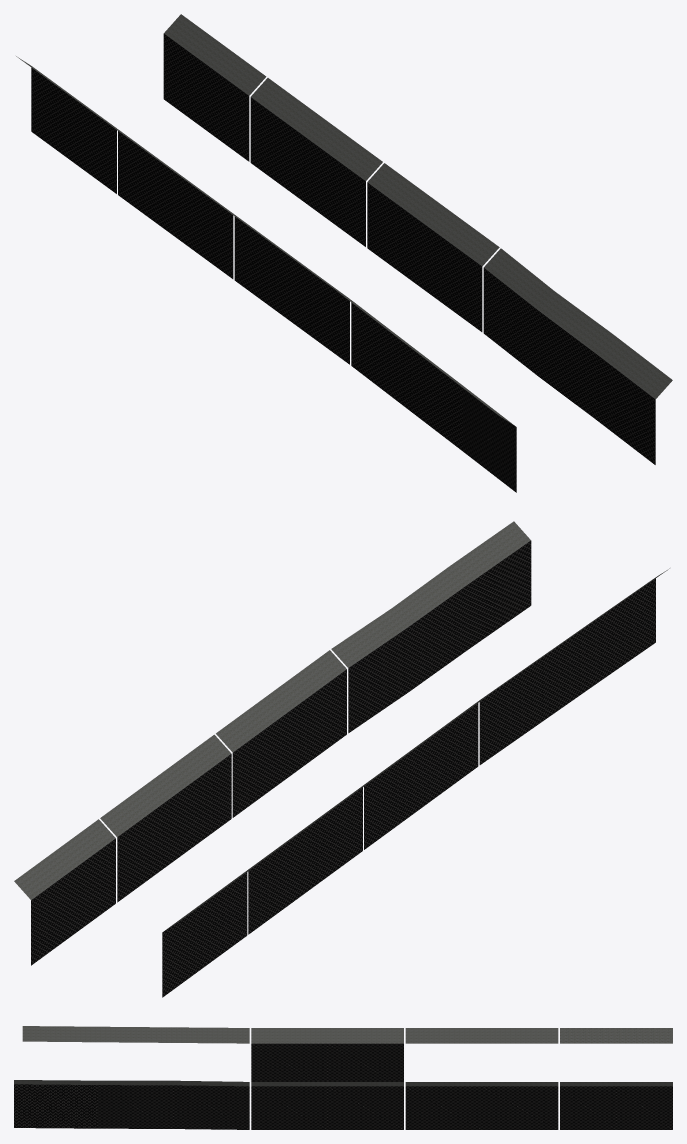
Rendered from vgsetrainfence06.obj.
The picture shows the model from 3 angles, top to bottom: view 1: azimuth 30°, elevation 25°; view 2: azimuth 150°, elevation 25°; view 3: azimuth 270°, elevation 25°; orthographic projection. The views are drawn at different scales.
Visible parts, largest first — view 1: vgsEtrainfence06; view 2: vgsEtrainfence06; view 3: vgsEtrainfence06.
Boxes of the visible parts, left/top/right/bottom form: vgsEtrainfence06: left=16, top=14, right=672, bottom=492; vgsEtrainfence06: left=14, top=521, right=669, bottom=997; vgsEtrainfence06: left=14, top=1026, right=672, bottom=1129.
Bounding box in the file's own units: 13.74 × 6.15 × 68.43.
Materials: 2 (2 with a texture image).
